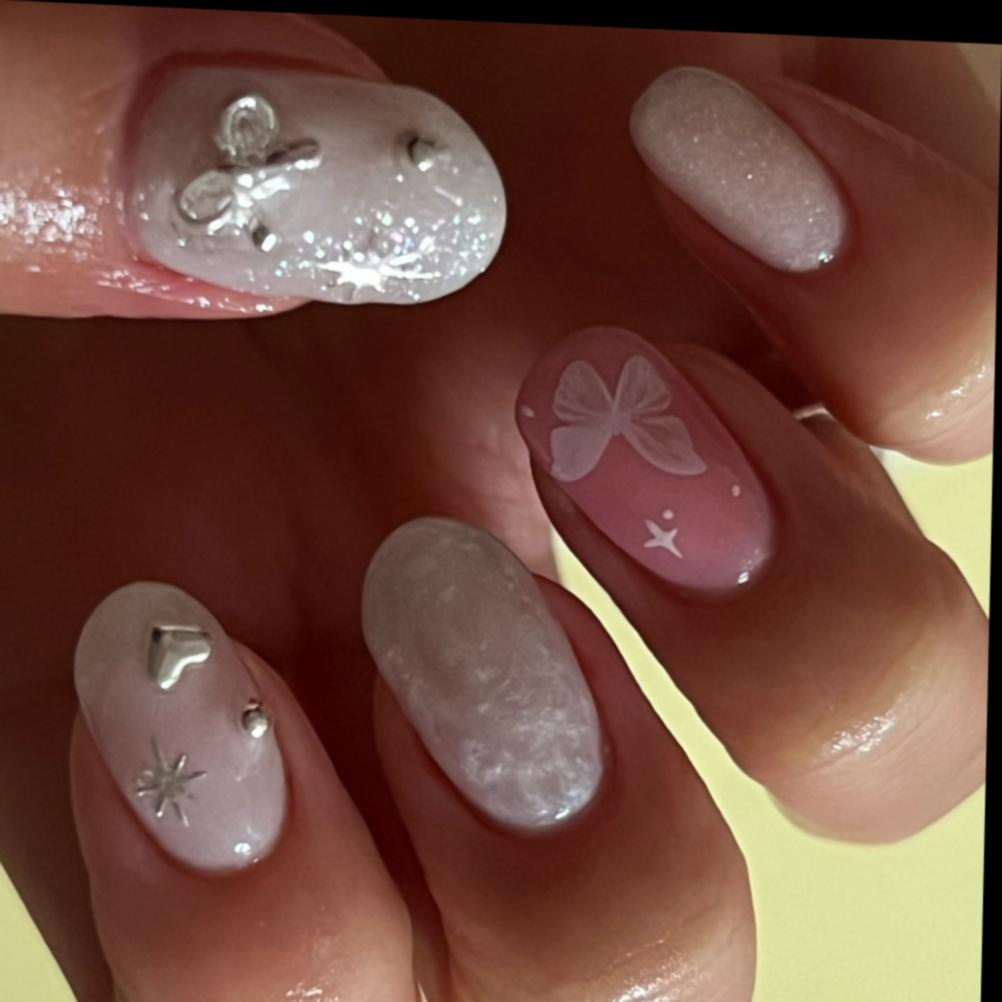nail: (503, 321, 995, 855), (61, 578, 434, 1002), (620, 62, 1000, 470)
